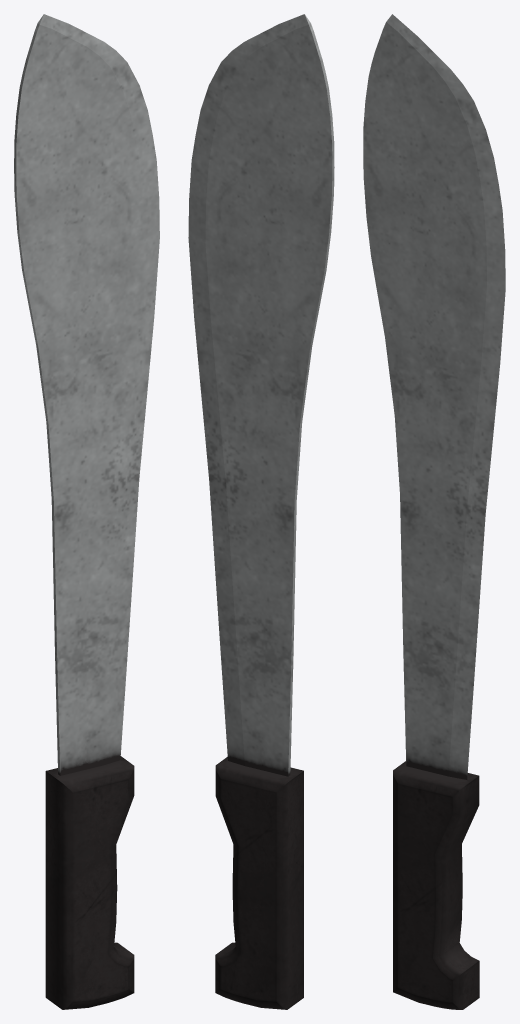
The model's file is Machete.fbx.
3 views of the same model, side by side, from view 1: azimuth 30°, elevation 25°; view 2: azimuth 150°, elevation 25°; view 3: azimuth 330°, elevation 25° (orthographic). The views are drawn at different scales.
Visible parts, largest first — view 1: Machete; view 2: Machete; view 3: Machete.
Part boxes in pixels (x1,y1,x2,y2): Machete: (14, 14, 159, 1009); Machete: (188, 14, 334, 1009); Machete: (363, 14, 505, 1009).
Size of the model in its own units: 7.85 by 51.56 by 2.08.
